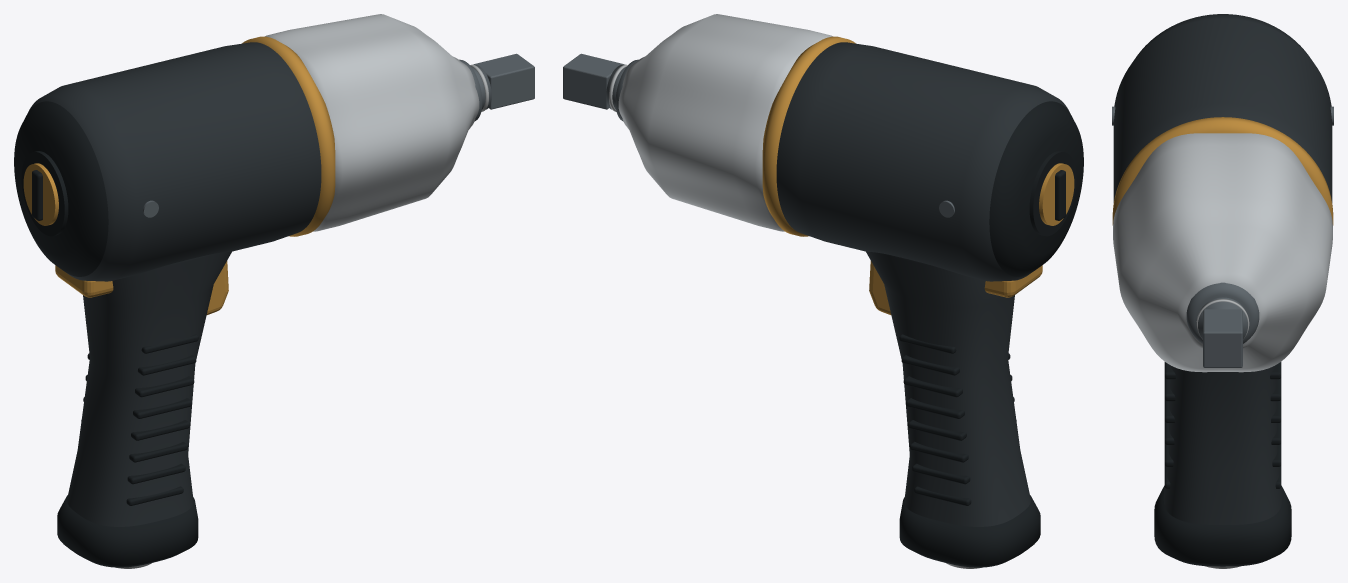
3 views of the same model, side by side, from view 1: azimuth 30°, elevation 25°; view 2: azimuth 150°, elevation 25°; view 3: azimuth 270°, elevation 25° (orthographic). The views are drawn at different scales.
Visible parts, largest first — view 1: Rounded rear motor enclosure, Fluted metal impact housing, Curved pistol grip, Rear end molded cap, Expanded rubber heel, Ochre housing gasket, Half inch square drive, Rear regulator base, Rear regulator dial, Reverse thumb tab, Front trigger; view 2: Rounded rear motor enclosure, Fluted metal impact housing, Curved pistol grip, Rear end molded cap, Expanded rubber heel, Ochre housing gasket, Half inch square drive, Rear regulator base, Rear regulator dial, Reverse thumb tab, Front trigger; view 3: Fluted metal impact housing, Rounded rear motor enclosure, Curved pistol grip, Expanded rubber heel, Ochre housing gasket, Half inch square drive, Front retaining nose, Round drive root.
Part boxes in pixels (bbox=[...]): Rounded rear motor enclosure: bbox=[28, 42, 321, 281]; Fluted metal impact housing: bbox=[265, 14, 479, 231]; Curved pistol grip: bbox=[67, 251, 231, 526]; Rear end molded cap: bbox=[14, 101, 108, 276]; Expanded rubber heel: bbox=[57, 495, 198, 567]; Ochre housing gasket: bbox=[242, 36, 335, 236]; Half inch square drive: bbox=[473, 53, 534, 109]; Rear regulator base: bbox=[21, 151, 68, 236]; Rear regulator dial: bbox=[23, 163, 58, 225]; Reverse thumb tab: bbox=[55, 265, 113, 297]; Front trigger: bbox=[206, 261, 228, 314]; Rounded rear motor enclosure: bbox=[776, 42, 1069, 281]; Fluted metal impact housing: bbox=[618, 14, 832, 231]; Curved pistol grip: bbox=[866, 251, 1030, 526]; Rear end molded cap: bbox=[989, 101, 1083, 276]; Expanded rubber heel: bbox=[899, 495, 1040, 567]; Ochre housing gasket: bbox=[762, 36, 855, 236]; Half inch square drive: bbox=[563, 53, 624, 109]; Rear regulator base: bbox=[1029, 151, 1076, 236]; Rear regulator dial: bbox=[1039, 163, 1074, 225]; Reverse thumb tab: bbox=[984, 265, 1042, 297]; Front trigger: bbox=[869, 261, 891, 314]; Fluted metal impact housing: bbox=[1113, 133, 1332, 372]; Rounded rear motor enclosure: bbox=[1113, 14, 1332, 202]; Curved pistol grip: bbox=[1163, 365, 1282, 524]; Expanded rubber heel: bbox=[1154, 485, 1291, 566]; Ochre housing gasket: bbox=[1112, 117, 1333, 225]; Half inch square drive: bbox=[1203, 309, 1242, 367]; Front retaining nose: bbox=[1186, 282, 1259, 343]; Round drive root: bbox=[1198, 297, 1247, 338].
Bounding box in the file's own units: 19.75 × 18.33 × 7.1.
